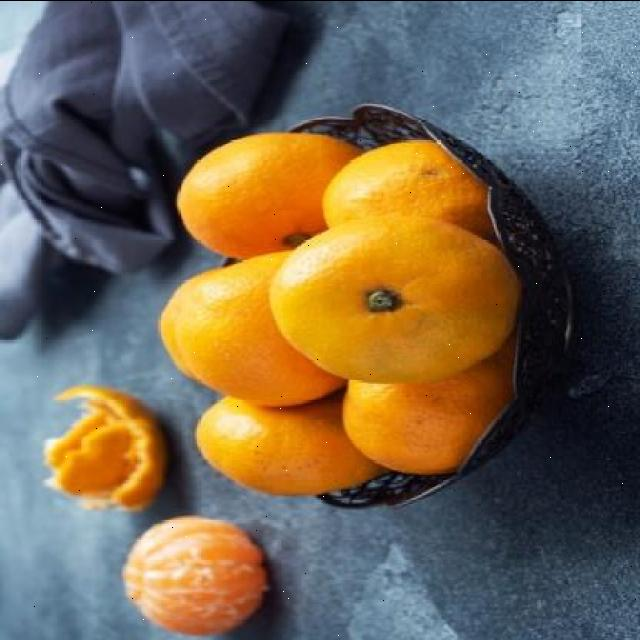Orange: (268, 213, 520, 384), (157, 250, 345, 408), (174, 131, 362, 260), (340, 343, 512, 475), (192, 395, 384, 497), (120, 515, 268, 637), (320, 140, 492, 237), (40, 384, 168, 512)
